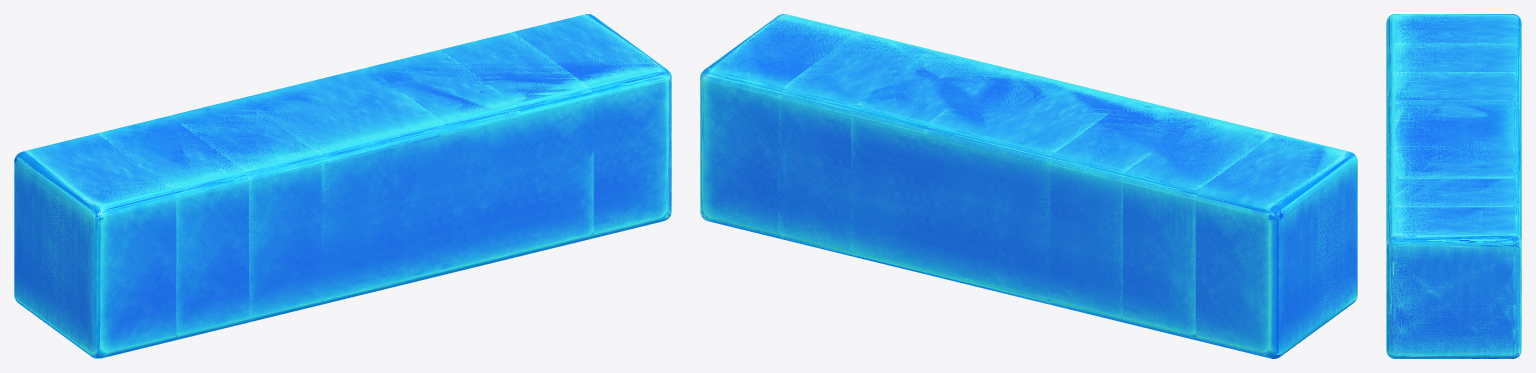
The model's file is ice.glb.
3 renders of one model, left to right at view 1: azimuth 30°, elevation 25°; view 2: azimuth 150°, elevation 25°; view 3: azimuth 270°, elevation 25°, orthographic. The views are drawn at different scales.
Visible parts, largest first — view 1: ICE_XLong_Surface, ICE_Vertical_XLong_Surface, ICE_Long_Surface, ICE_Vertical_Long_Surface, ICE_Vertical_Base_Surface, ICE_Base_Surface, ICE_Cube_Surface, ICE_Vertical_Cube_Surface; view 2: ICE_XLong_Surface, ICE_Vertical_XLong_Surface, ICE_Long_Surface, ICE_Base_Surface, ICE_Vertical_Long_Surface, ICE_Cube_Surface, ICE_Vertical_Base_Surface, ICE_Vertical_Cube_Surface; view 3: ICE_XLong_Surface, ICE_Vertical_XLong_Surface, ICE_Long_Surface, ICE_Base_Surface, ICE_Vertical_Base_Surface, ICE_Vertical_Long_Surface, ICE_Vertical_Cube_Surface, ICE_Cube_Surface.
Boxes of the visible parts, x1=… form: ICE_XLong_Surface: x1=14, y1=14, x2=671, y2=358; ICE_Vertical_XLong_Surface: x1=14, y1=14, x2=671, y2=358; ICE_Long_Surface: x1=96, y1=32, x2=593, y2=340; ICE_Vertical_Long_Surface: x1=99, y1=34, x2=593, y2=339; ICE_Vertical_Base_Surface: x1=177, y1=64, x2=520, y2=322; ICE_Base_Surface: x1=169, y1=50, x2=520, y2=322; ICE_Cube_Surface: x1=252, y1=67, x2=447, y2=301; ICE_Vertical_Cube_Surface: x1=283, y1=75, x2=446, y2=303; ICE_XLong_Surface: x1=700, y1=14, x2=1357, y2=358; ICE_Vertical_XLong_Surface: x1=700, y1=14, x2=1357, y2=358; ICE_Long_Surface: x1=778, y1=32, x2=1274, y2=338; ICE_Base_Surface: x1=851, y1=49, x2=1202, y2=321; ICE_Vertical_Long_Surface: x1=779, y1=34, x2=1274, y2=337; ICE_Cube_Surface: x1=923, y1=67, x2=1128, y2=300; ICE_Vertical_Base_Surface: x1=851, y1=51, x2=1201, y2=316; ICE_Vertical_Cube_Surface: x1=924, y1=69, x2=1107, y2=303; ICE_XLong_Surface: x1=1386, y1=14, x2=1521, y2=358; ICE_Vertical_XLong_Surface: x1=1386, y1=14, x2=1521, y2=358; ICE_Long_Surface: x1=1386, y1=43, x2=1521, y2=214; ICE_Base_Surface: x1=1386, y1=72, x2=1521, y2=185; ICE_Vertical_Base_Surface: x1=1387, y1=72, x2=1521, y2=180; ICE_Vertical_Long_Surface: x1=1386, y1=43, x2=1521, y2=210; ICE_Vertical_Cube_Surface: x1=1387, y1=100, x2=1521, y2=153; ICE_Cube_Surface: x1=1387, y1=100, x2=1521, y2=154.
Bounding box in the file's own units: 4 × 1 × 1.
Materials: 2 (2 with a texture image).
